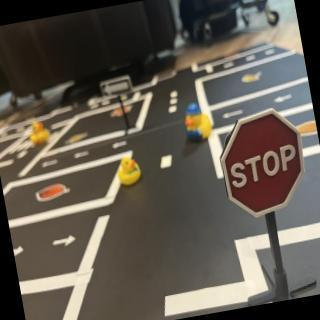duck_regular: (117, 156, 145, 190)
duck_specialty: (181, 100, 217, 146), (29, 119, 54, 149)
road_crosswalk: (6, 130, 68, 156)
road_oneway: (48, 231, 81, 252), (221, 108, 248, 121), (274, 94, 299, 106), (14, 243, 28, 260), (42, 159, 63, 170), (74, 150, 95, 161), (113, 141, 129, 151)
sign_oneway_left: (98, 77, 137, 101)
sign_stop: (215, 102, 317, 225)
